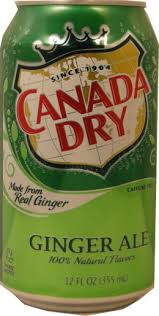Lata: (1, 1, 156, 313)
